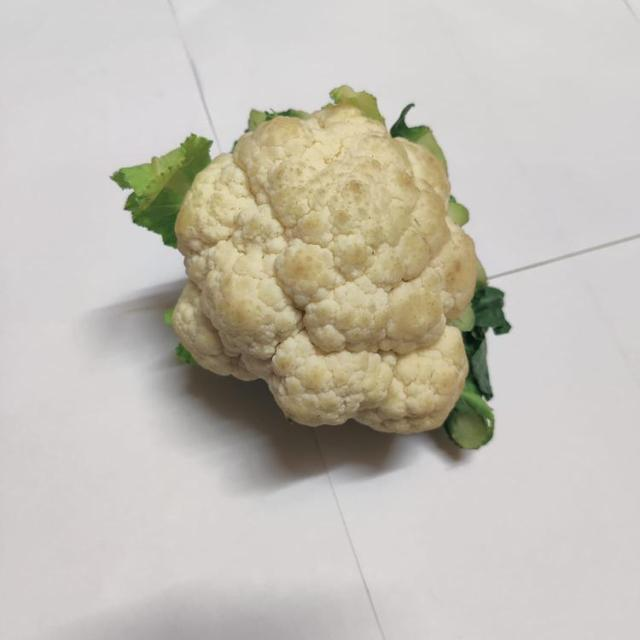Organik: (110, 70, 534, 478)
